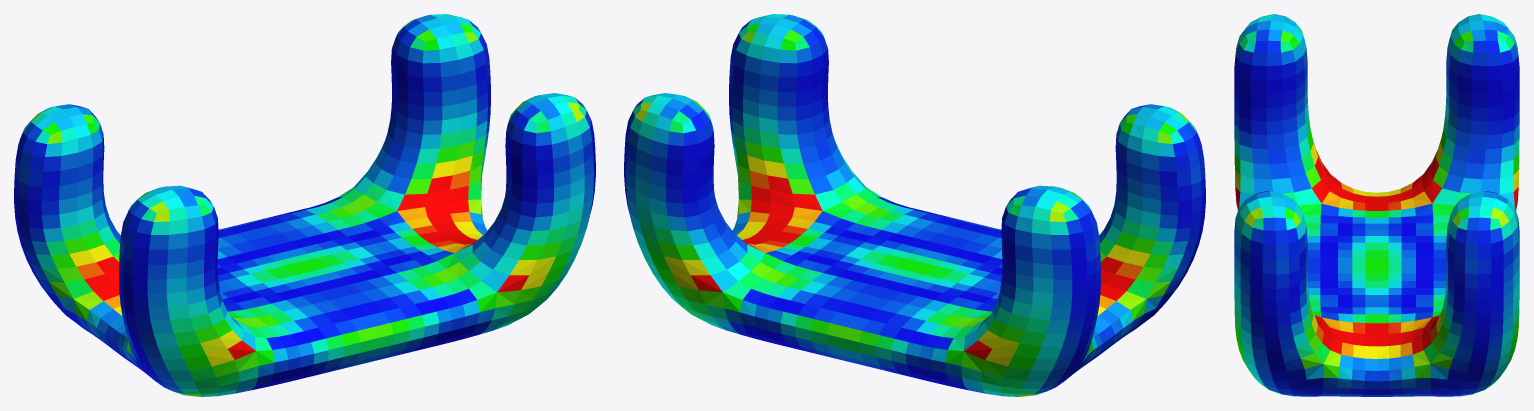
Rendered from table_no_opt_quality.obj.
3 views of the same model, side by side, from view 1: azimuth 30°, elevation 25°; view 2: azimuth 150°, elevation 25°; view 3: azimuth 270°, elevation 25° (orthographic). The views are drawn at different scales.
Bounding box in the file's own units: 3.89 × 1.77 × 2.13.
